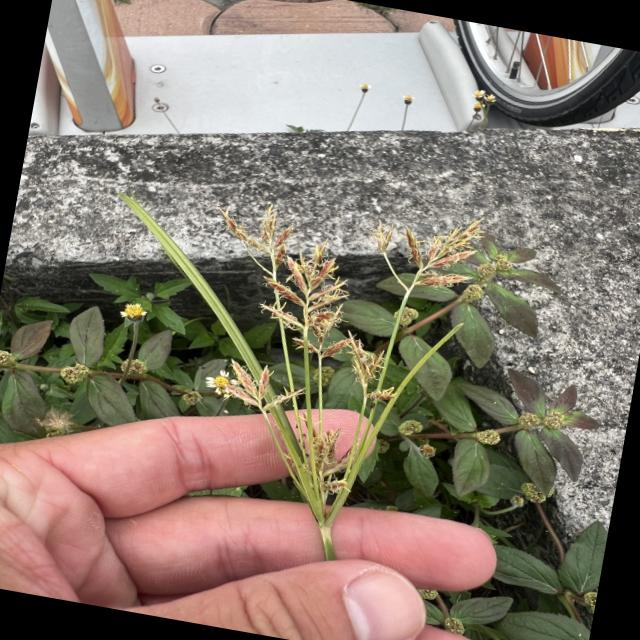cyperus: (168, 170, 502, 544), (192, 188, 374, 364), (195, 353, 366, 505), (365, 195, 497, 328)
